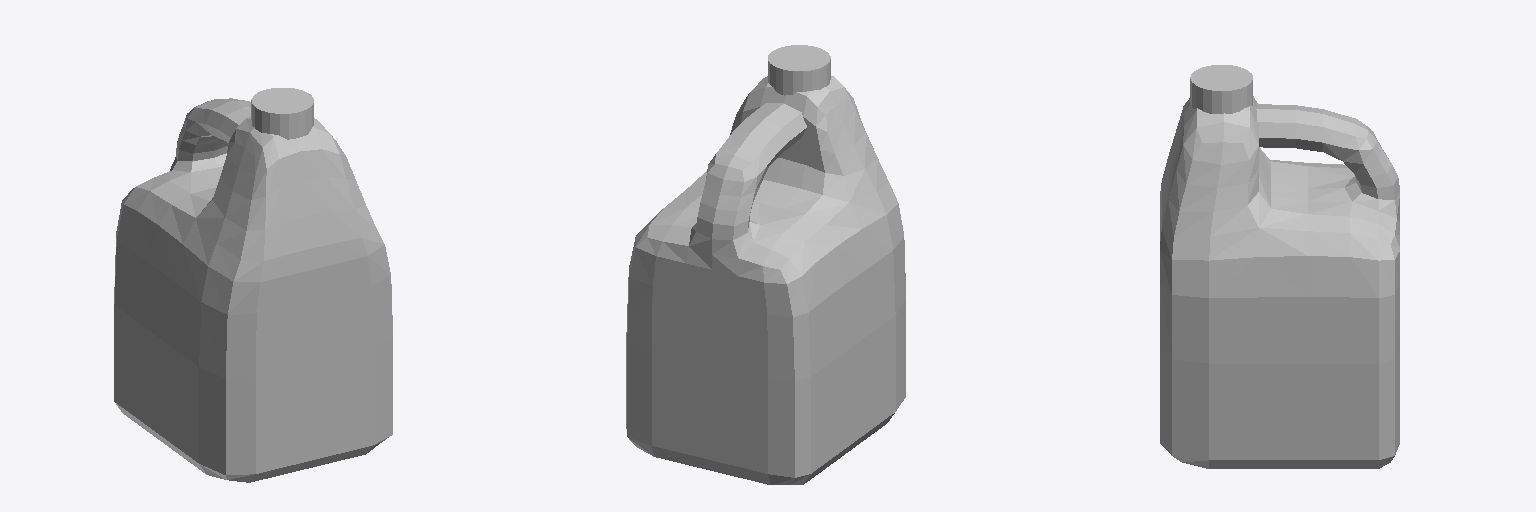
Rendered from Bleach Bottle.obj.
3 renders of one model, left to right at view 1: azimuth 30°, elevation 25°; view 2: azimuth 150°, elevation 25°; view 3: azimuth 270°, elevation 25°, orthographic.
Parts seen in each view (by area): view 1: pCube2; view 2: pCube2; view 3: pCube2.
Part boxes in pixels (x1,y1,x2,y2): pCube2: (114,88,392,482); pCube2: (626,45,905,484); pCube2: (1160,65,1399,468).
Size of the model in its own units: 7.94 by 14.55 by 8.97.